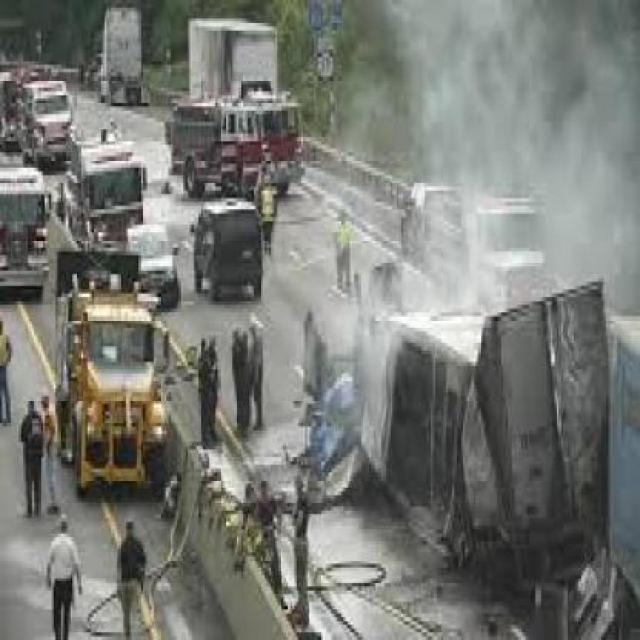accident: (309, 270, 640, 596)
